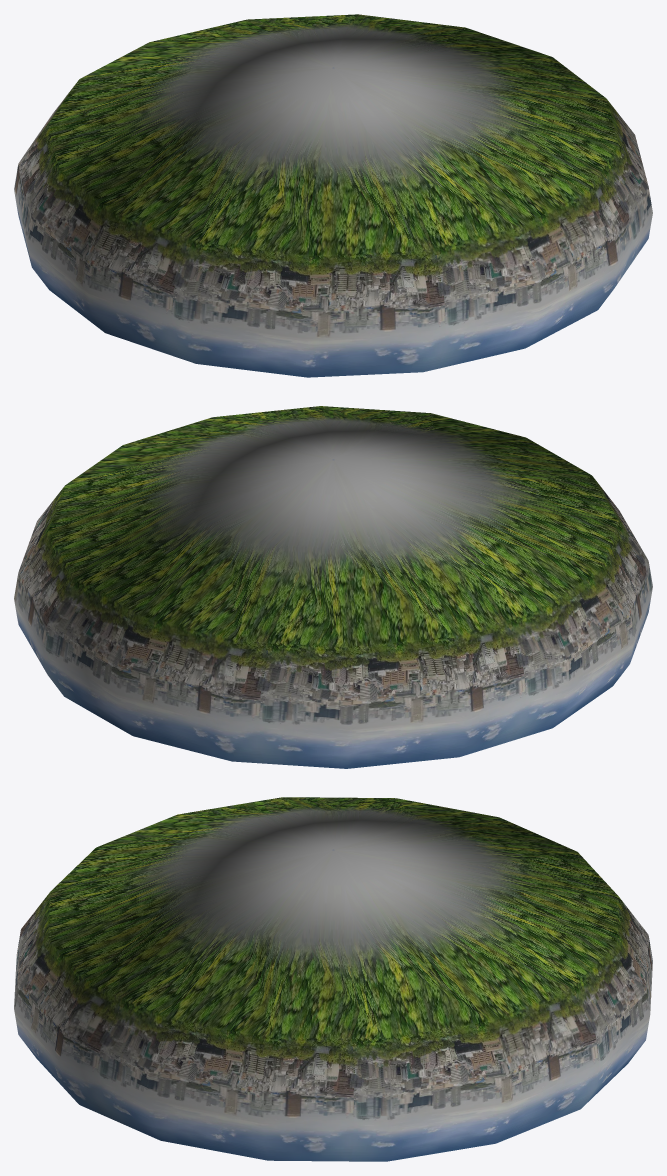
The picture shows the model from 3 angles, top to bottom: view 1: azimuth 30°, elevation 25°; view 2: azimuth 150°, elevation 25°; view 3: azimuth 270°, elevation 25°; orthographic projection.
Parts seen in each view (by area): view 1: Plane; view 2: Plane; view 3: Plane.
Part boxes in pixels (x1=…): Plane: x1=14, y1=14, x2=652, y2=377; Plane: x1=14, y1=406, x2=652, y2=768; Plane: x1=14, y1=797, x2=652, y2=1161.
Size of the model in its own units: 613 by 197 by 613.
Materials: 5 (5 with a texture image).
